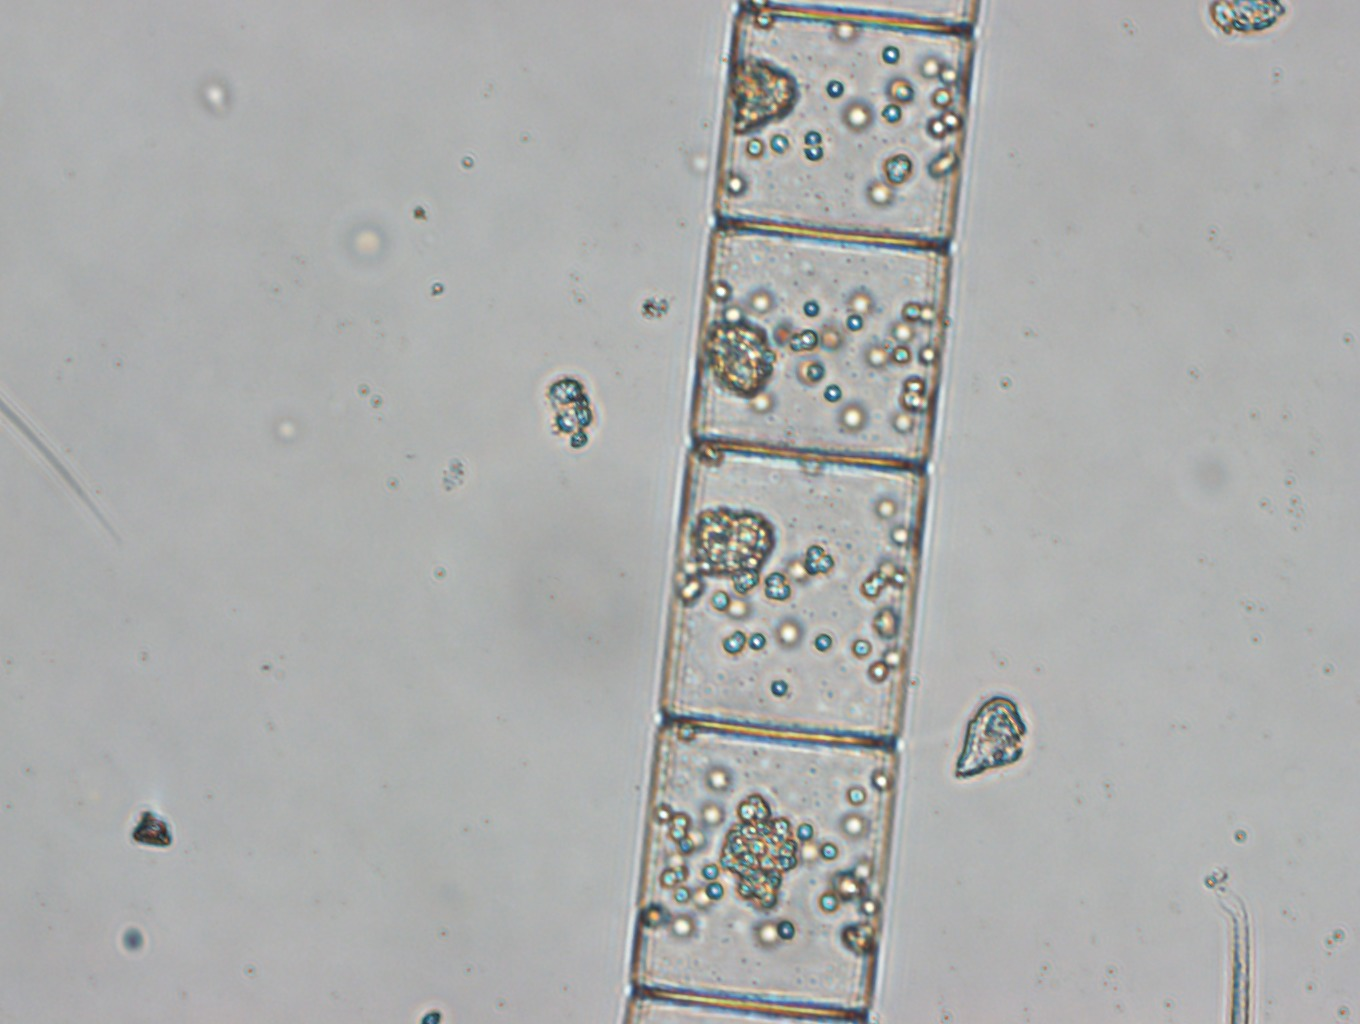guinardia flaccida: (619, 1, 982, 1024)
